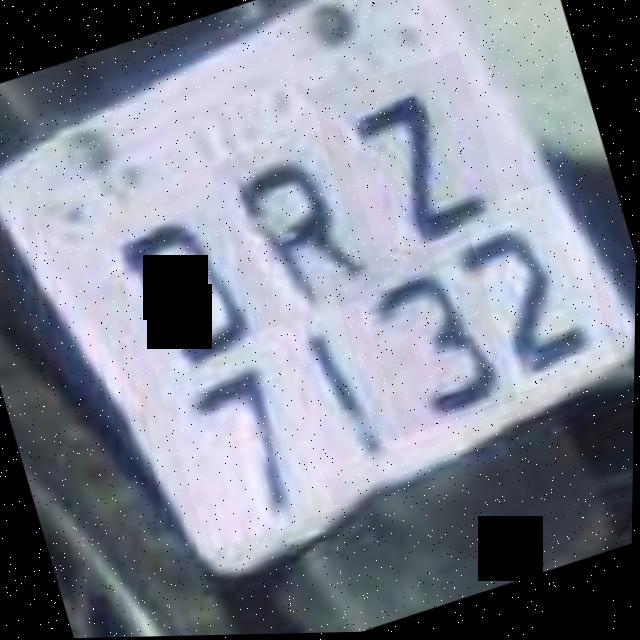1: (281, 302, 410, 482)
2: (422, 180, 619, 409)
3: (328, 231, 521, 448)
7: (152, 325, 339, 553)
C: (95, 184, 278, 391)
R: (208, 124, 390, 334)
Z: (309, 51, 510, 268)
